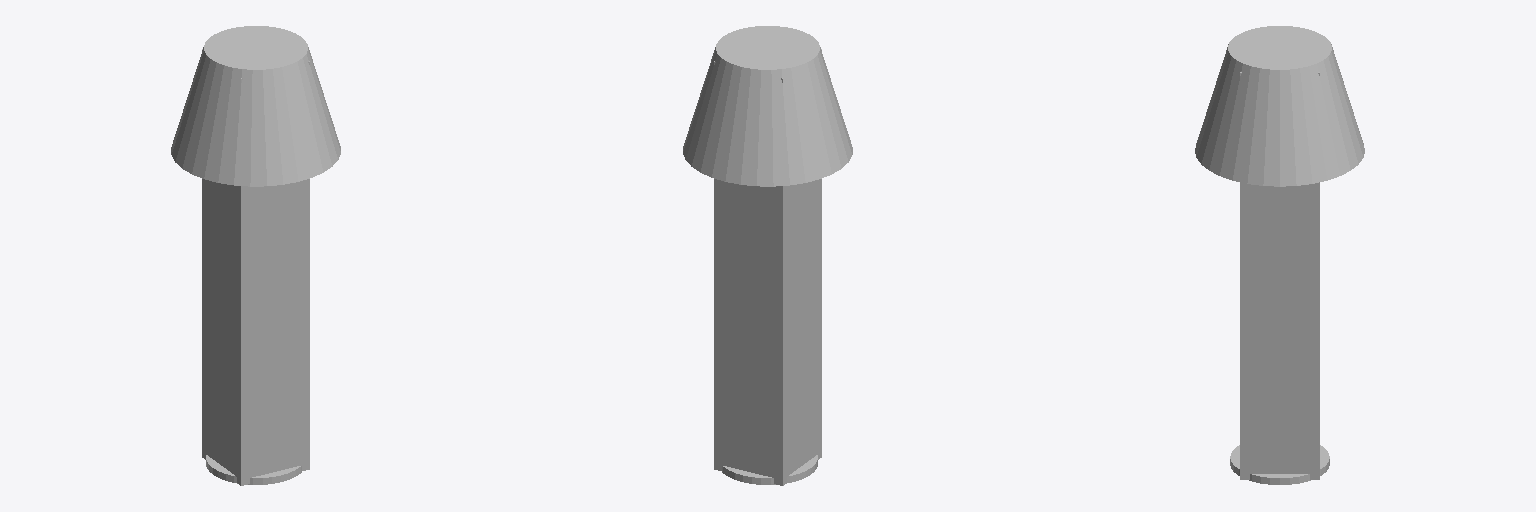
File: lamp_tall.obj
3 renders of one model, left to right at view 1: azimuth 30°, elevation 25°; view 2: azimuth 150°, elevation 25°; view 3: azimuth 270°, elevation 25°, orthographic.
Visible parts, largest first — view 1: UCX_lamp_tall, lamp_tall; view 2: UCX_lamp_tall, lamp_tall; view 3: UCX_lamp_tall, lamp_tall.
Boxes of the visible parts, x1,y1,x2,y2 form: UCX_lamp_tall: [202, 49, 309, 485]; lamp_tall: [171, 26, 340, 484]; UCX_lamp_tall: [714, 49, 821, 485]; lamp_tall: [683, 26, 852, 484]; UCX_lamp_tall: [1240, 72, 1319, 479]; lamp_tall: [1195, 26, 1364, 484].
Size of the model in its own units: 1.91 by 5.15 by 1.91.